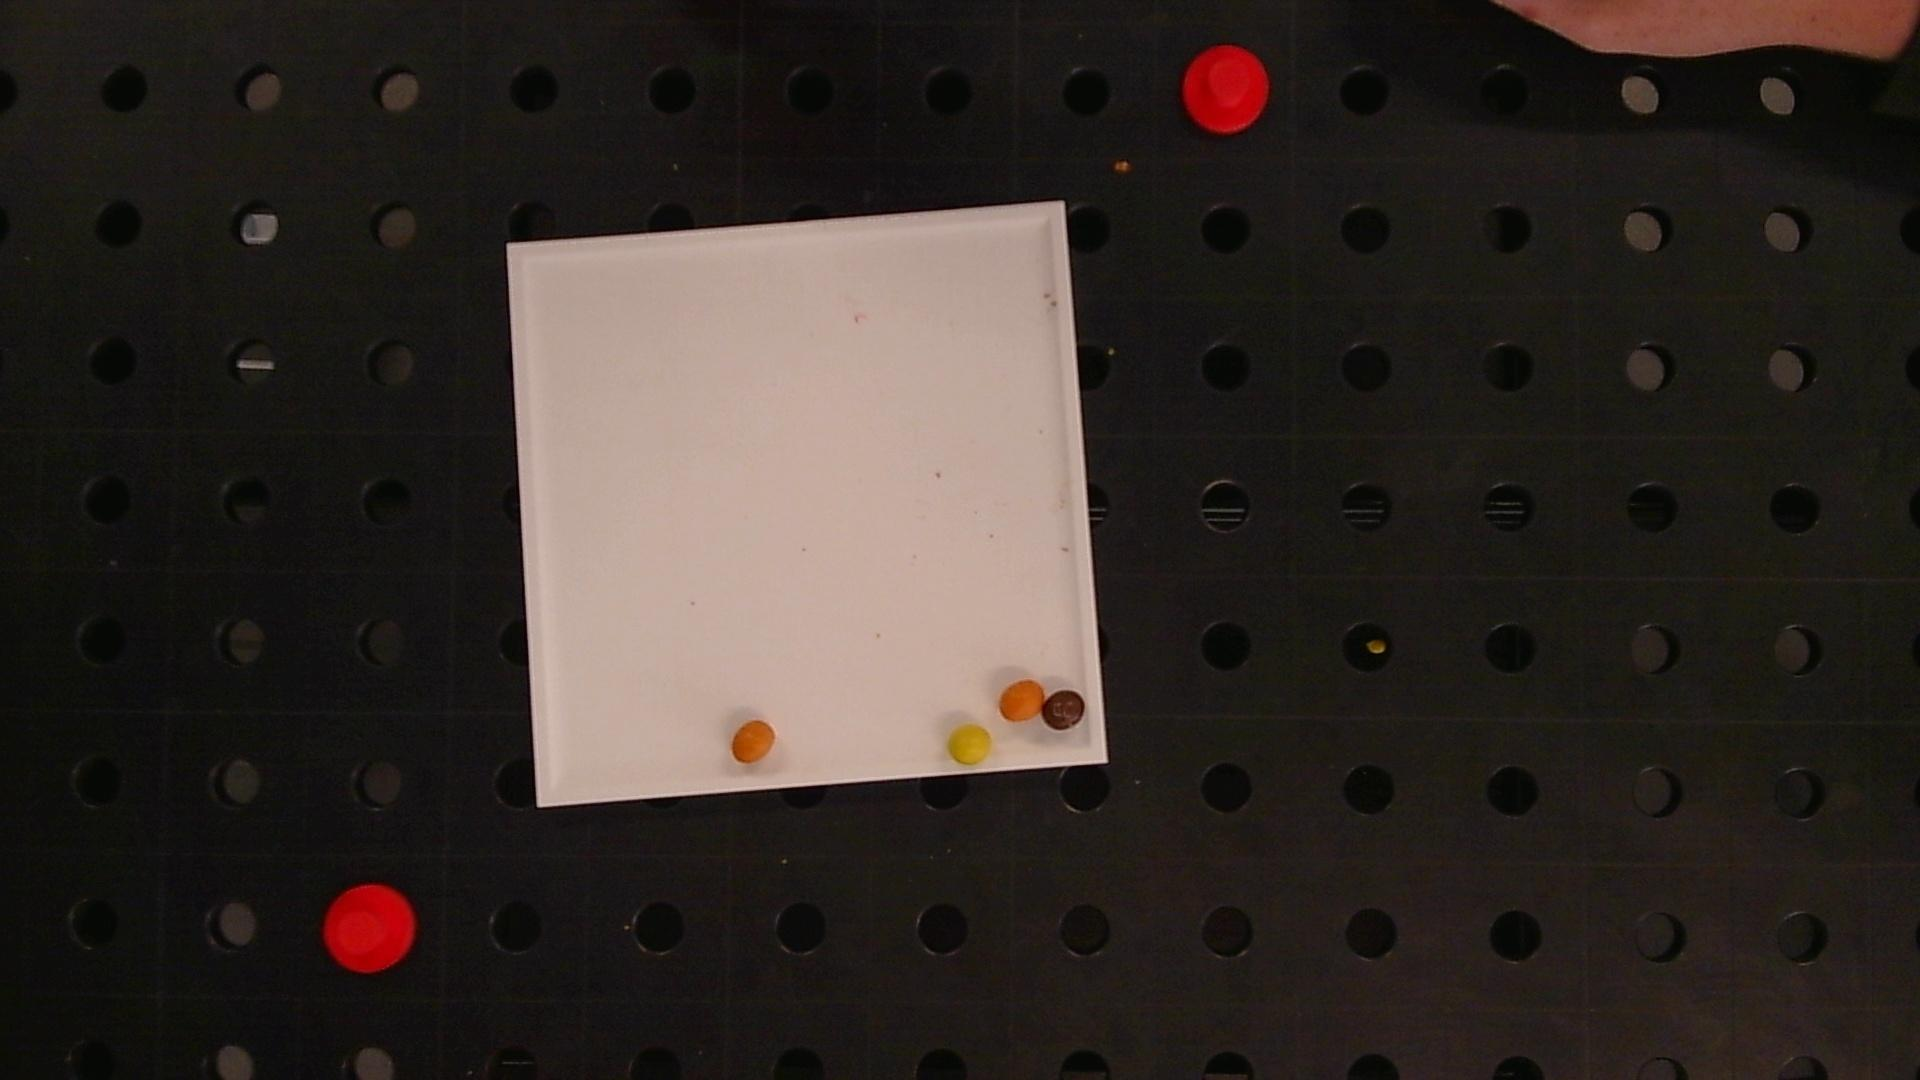brown: (1042, 690, 1085, 729)
orange: (732, 720, 775, 764), (1000, 679, 1044, 721)
yellow: (947, 725, 992, 765)
